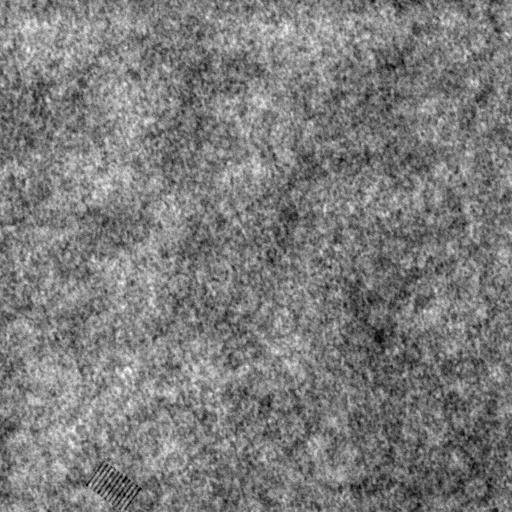DefectTypeB: (85, 459, 142, 508)
